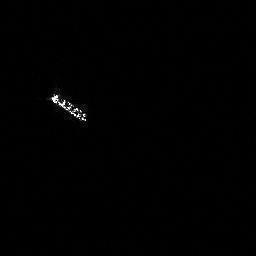ship: (52, 92, 91, 125)
